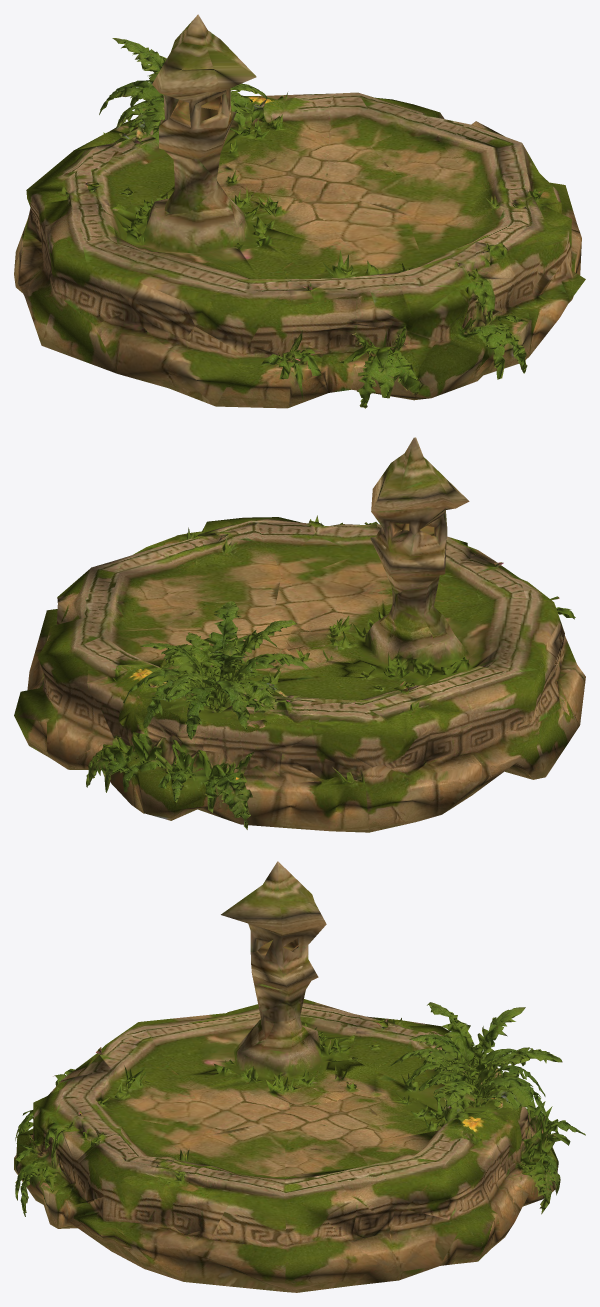
The model's file is land_b.glb.
3 renders of one model, top to bottom at view 1: azimuth 30°, elevation 25°; view 2: azimuth 150°, elevation 25°; view 3: azimuth 270°, elevation 25°, orthographic. The views are drawn at different scales.
Size of the model in its own units: 1.75 by 0.9835 by 1.85.
1 material, 1 textured.
